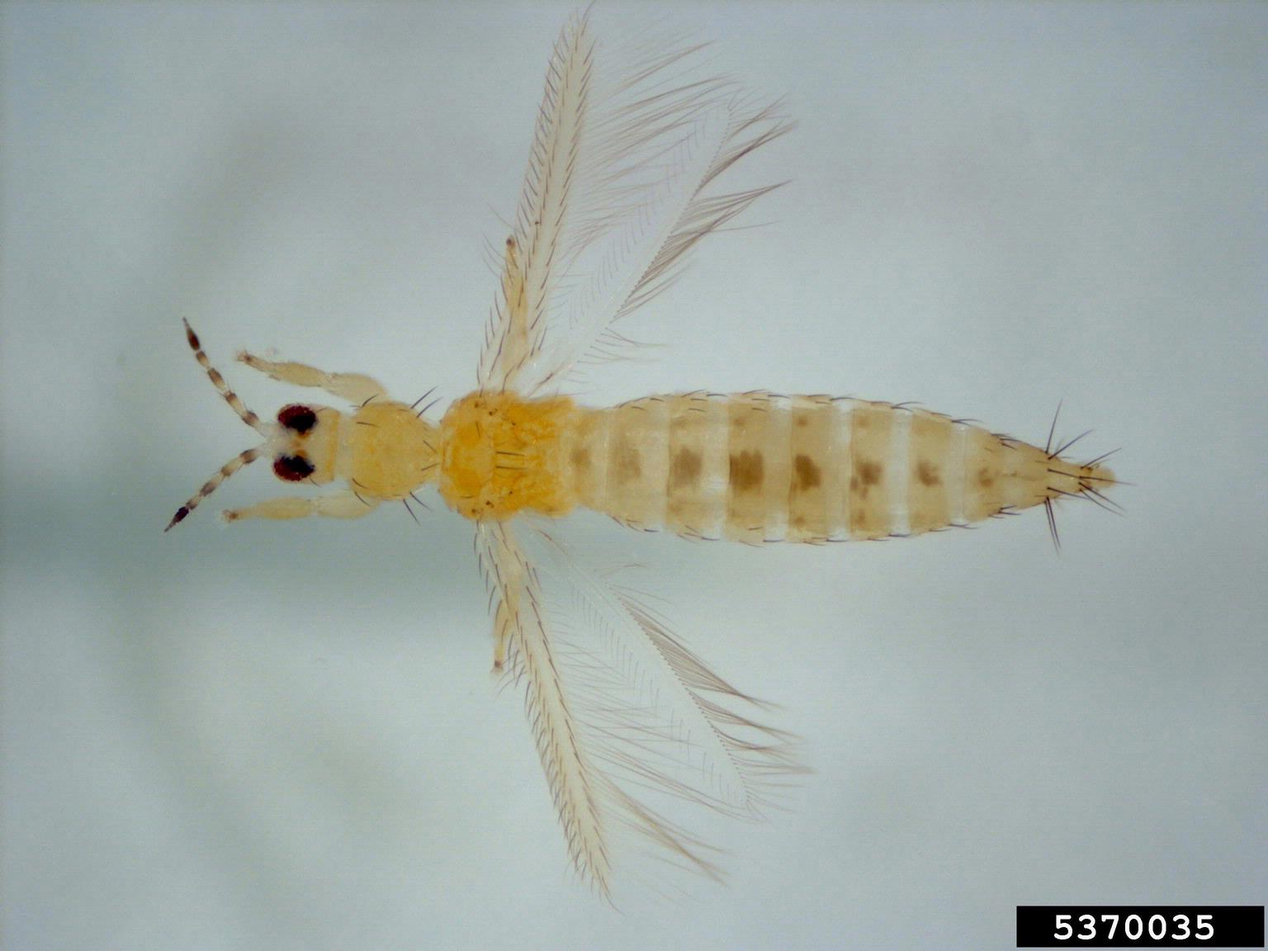Thripidae: (165, 7, 1132, 922)
